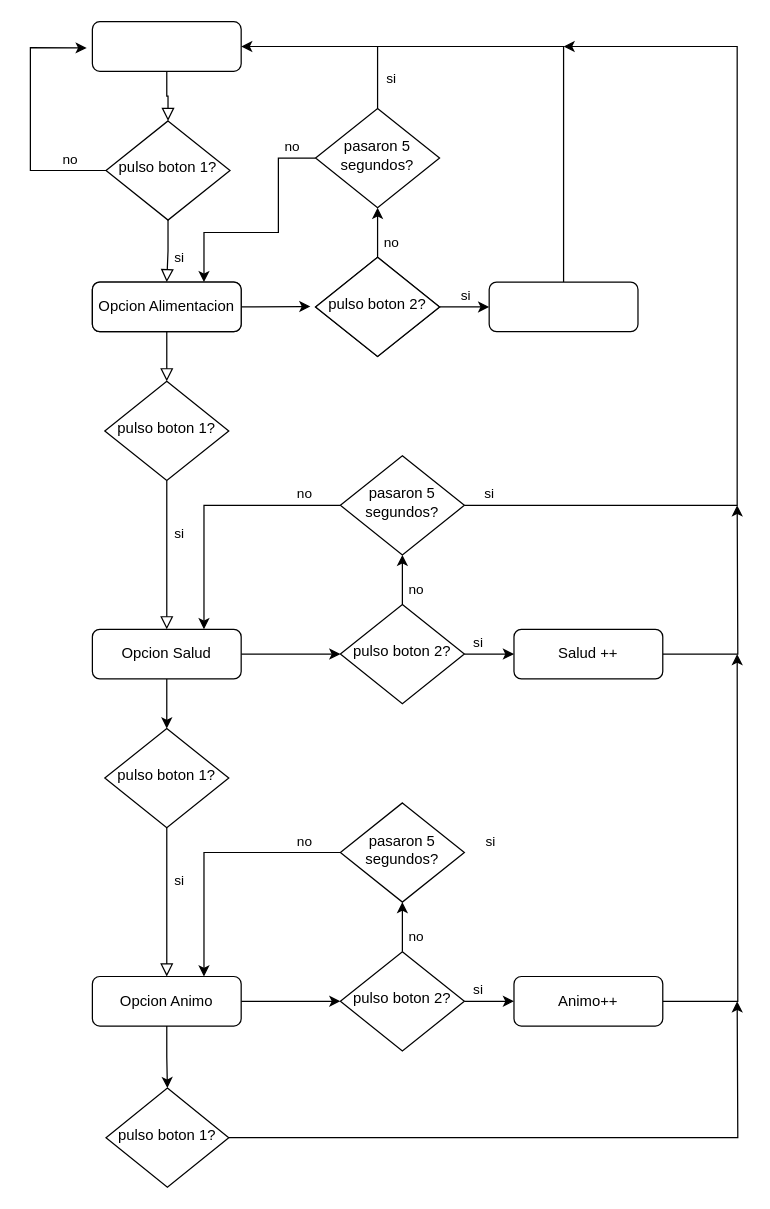
This 770x1209 diagram has some shape labels left out. The shapes that lost their labels are listed below. From the top down, each one's centre as x and y in pixels, then its label:
At point (166, 45): "Estado Base".
At point (563, 306): "Comida ++".
